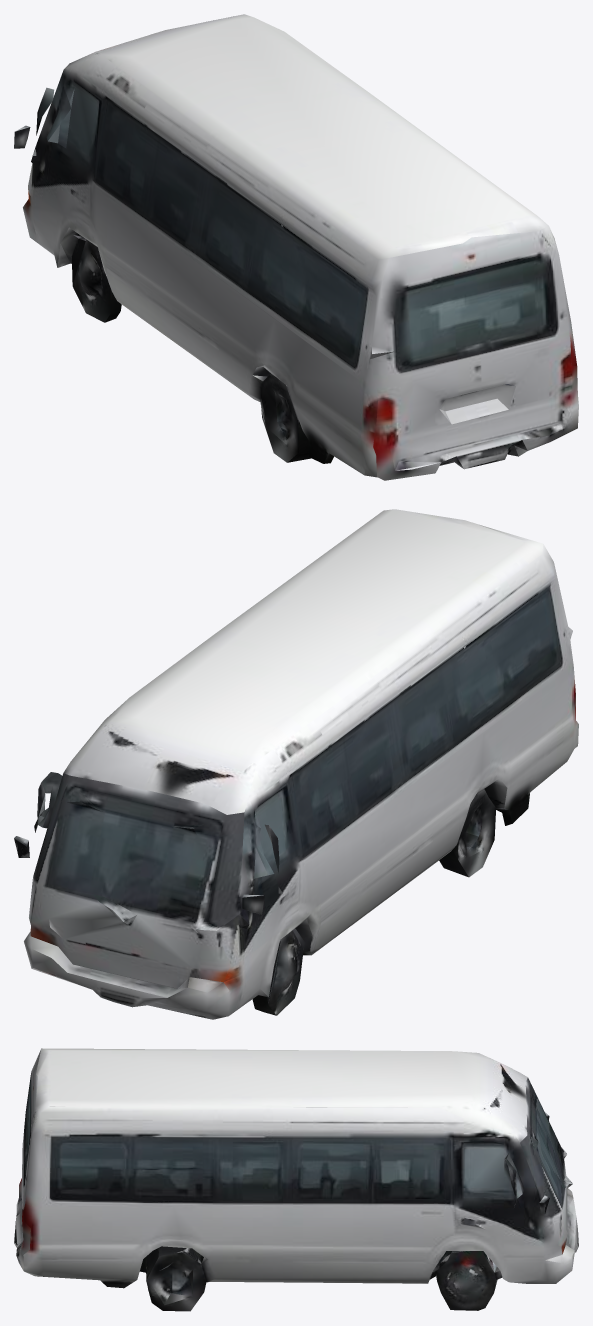
The model's file is van.glb.
The picture shows the model from 3 angles, top to bottom: view 1: azimuth 30°, elevation 25°; view 2: azimuth 150°, elevation 25°; view 3: azimuth 270°, elevation 25°; orthographic projection. The views are drawn at different scales.
Visible parts, largest first — view 1: van; view 2: van; view 3: van.
Part boxes in pixels (x1,y1,x2,y2): van: (14,14,578,480); van: (14,509,578,1019); van: (14,1048,578,1311).
Size of the model in its own units: 0.3897 by 0.3914 by 0.9973.
1 material, 1 textured.
